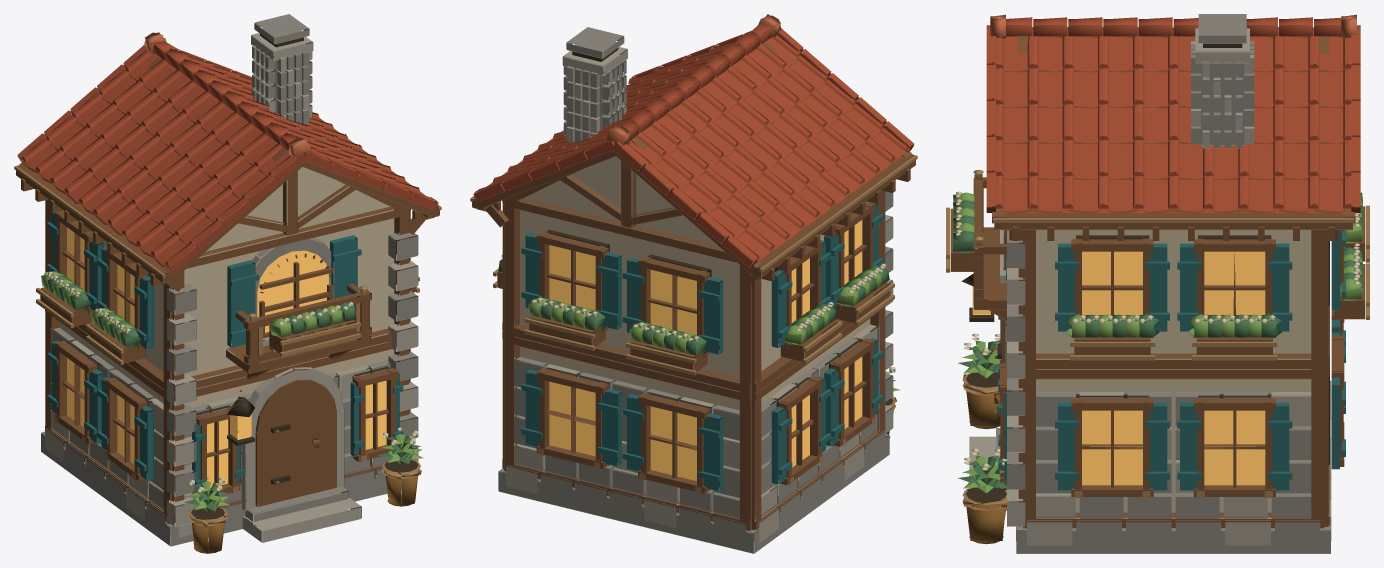
The picture shows the model from 3 angles, left to right: view 1: azimuth 30°, elevation 25°; view 2: azimuth 150°, elevation 25°; view 3: azimuth 270°, elevation 25°; orthographic projection. The views are drawn at different scales.
Visible parts, largest first — view 1: alpine_tower_2_geometry; view 2: alpine_tower_2_geometry; view 3: alpine_tower_2_geometry.
Boxes of the visible parts, bbox=[...] form: alpine_tower_2_geometry: bbox=[14, 14, 441, 553]; alpine_tower_2_geometry: bbox=[470, 14, 917, 553]; alpine_tower_2_geometry: bbox=[946, 14, 1369, 553].
Bounding box in the file's own units: 0.882 × 1.16 × 0.8886.
